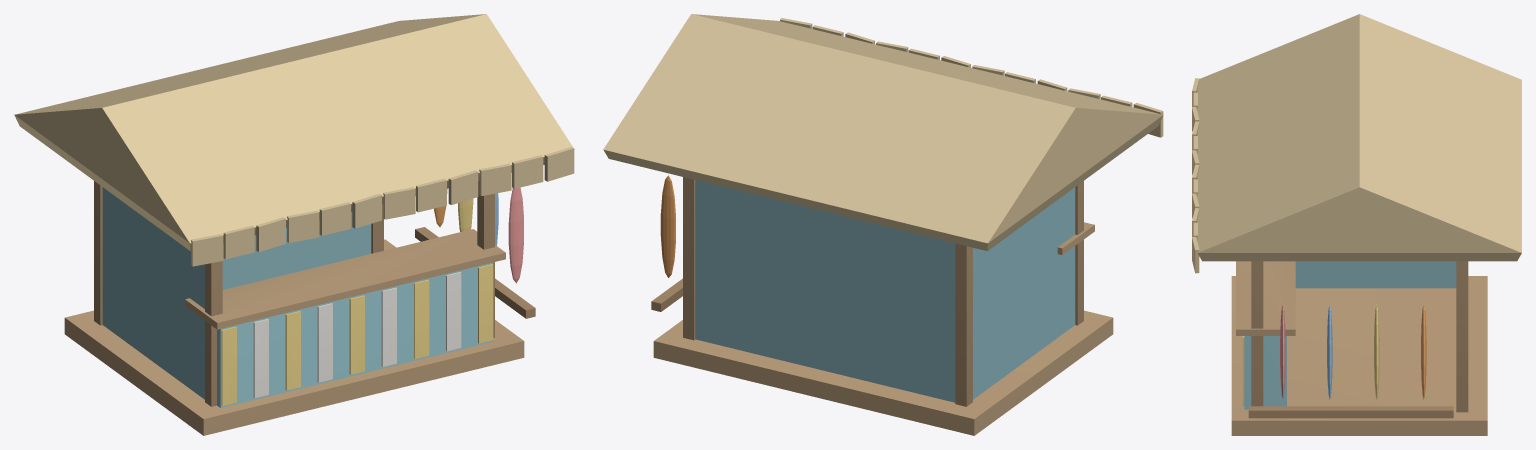
File: VSurfShack.fbx
The picture shows the model from 3 angles, left to right: view 1: azimuth 30°, elevation 25°; view 2: azimuth 150°, elevation 25°; view 3: azimuth 270°, elevation 25°; orthographic projection. The views are drawn at different scales.
Visible parts, largest first — view 1: VSurfShack; view 2: VSurfShack; view 3: VSurfShack.
Part boxes in pixels (bbox=[...]): VSurfShack: bbox=[14, 14, 574, 435]; VSurfShack: bbox=[603, 14, 1163, 435]; VSurfShack: bbox=[1192, 14, 1521, 435].
Bounding box in the file's own units: 4.8 × 3.4 × 3.86.
